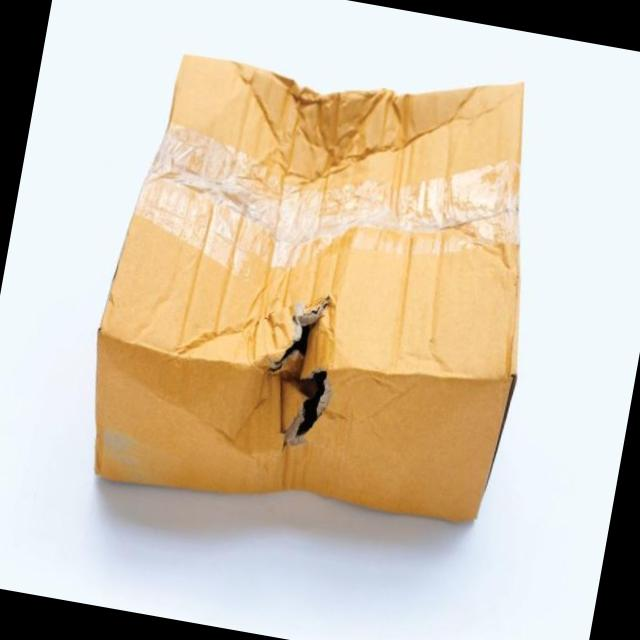box: (97, 53, 525, 520)
crushed: (331, 198, 512, 282), (184, 214, 286, 353), (271, 65, 413, 161)
opened: (281, 293, 339, 447)
